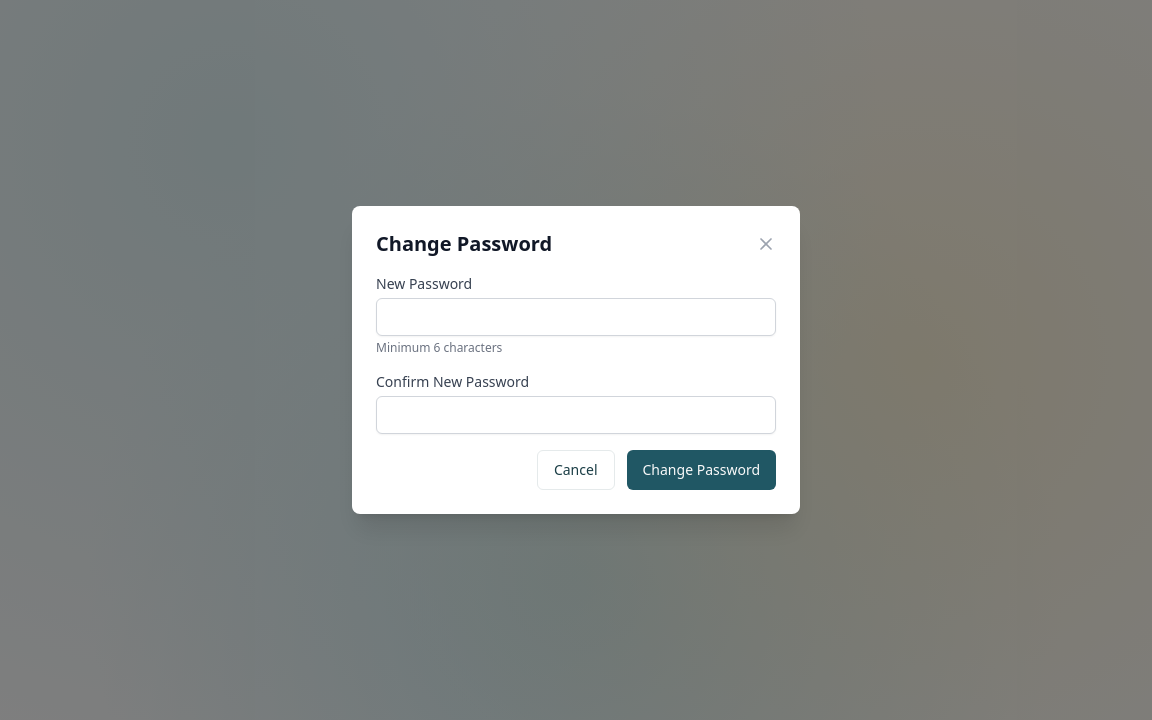
Test: ChangePasswordModal › Form Submission › shows success message on successful password change
This screenshot has width=1152, height=720.
Type "newpassword123" into the password field labelled "New Password".
click(576, 317); type("newpassword123")  # box left=376, top=298, right=776, bottom=336
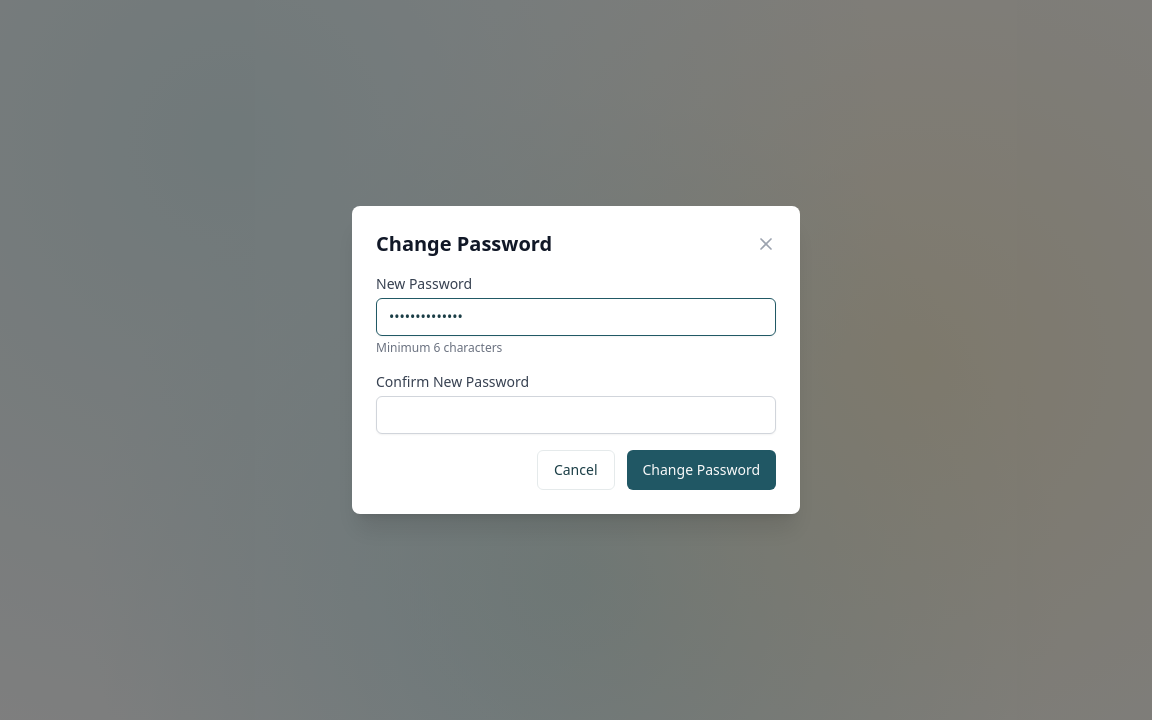
Type "newpassword123" into the password field labelled "Confirm New Password".
click(576, 415); type("newpassword123")  # box left=376, top=396, right=776, bottom=434
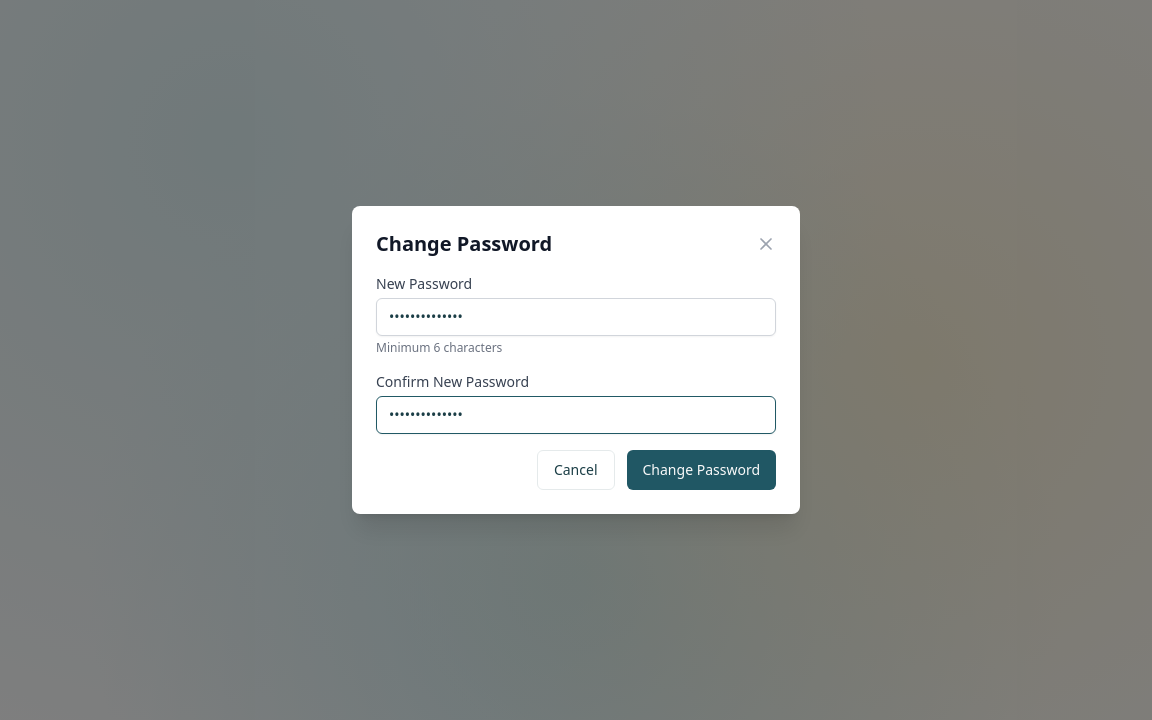
Click the button "Change Password".
click(701, 470)  # box left=626, top=450, right=776, bottom=490
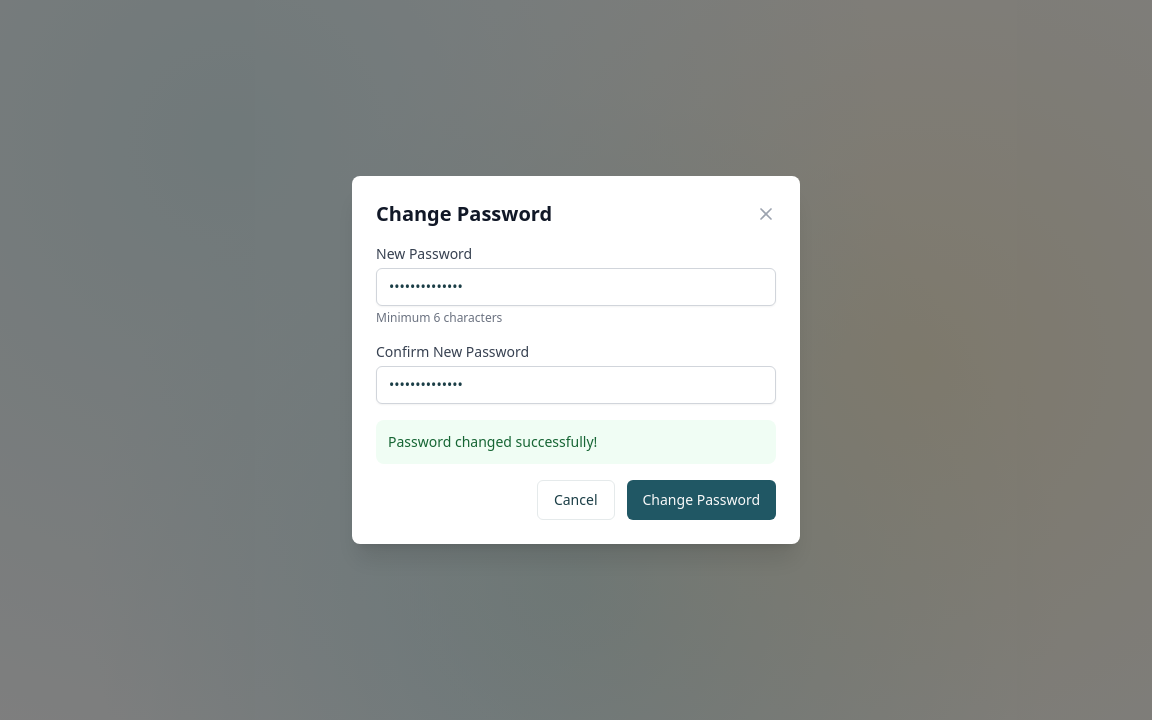
Expected: the text "Password changed successfully!" is shown, left=376, top=420, right=776, bottom=464
